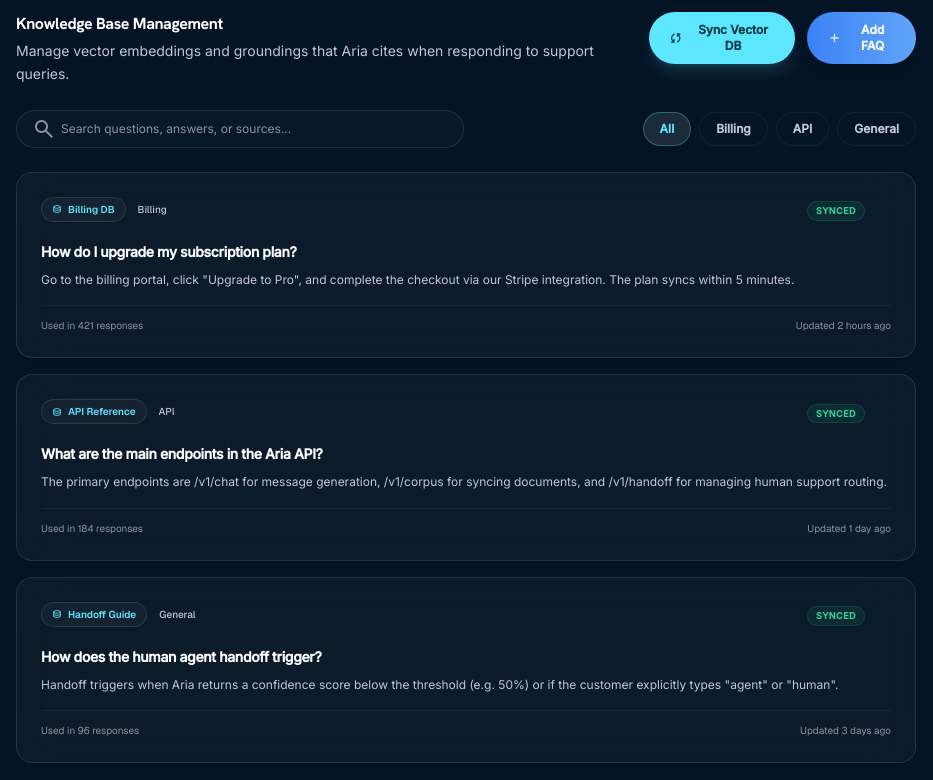
KnowledgeBasePage Component › filters FAQ items by category pill
Note: Select "Billing" category pill
What coordinates should you click on to do the following:
click the button "Billing"
I would click on:
 (734, 128)
Its box is top-left (699, 112), bottom-right (768, 146).
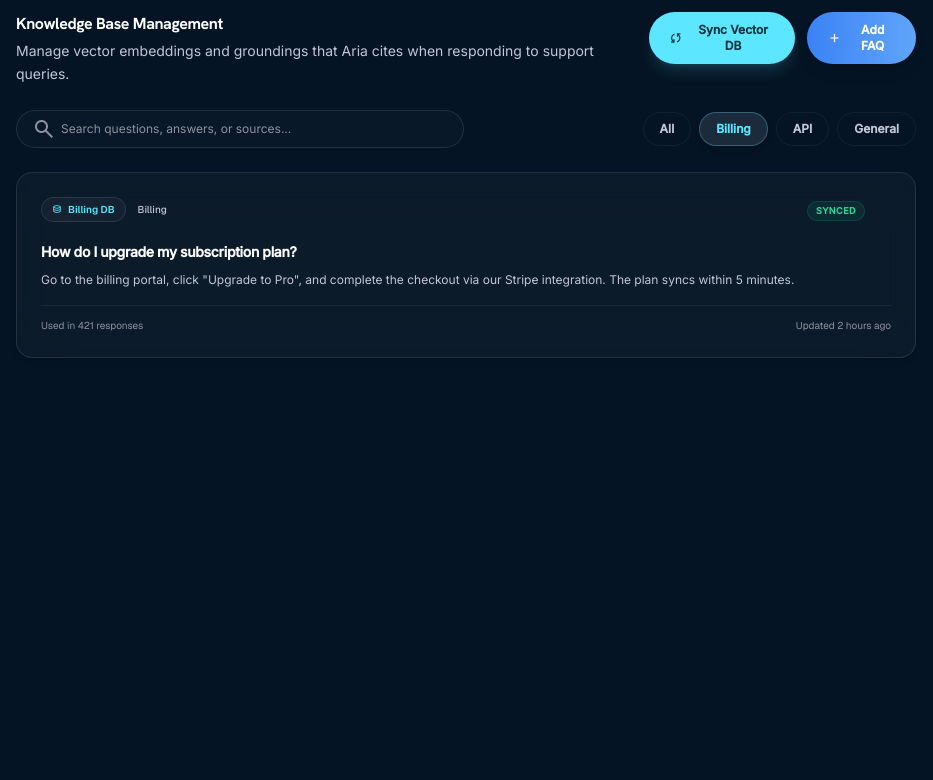
Check: the heading "How do I upgrade my subscription plan?" is shown, box top-left (41, 242), bottom-right (296, 260)
Check: the heading "What are the main endpoints in the Aria API?" is gone
